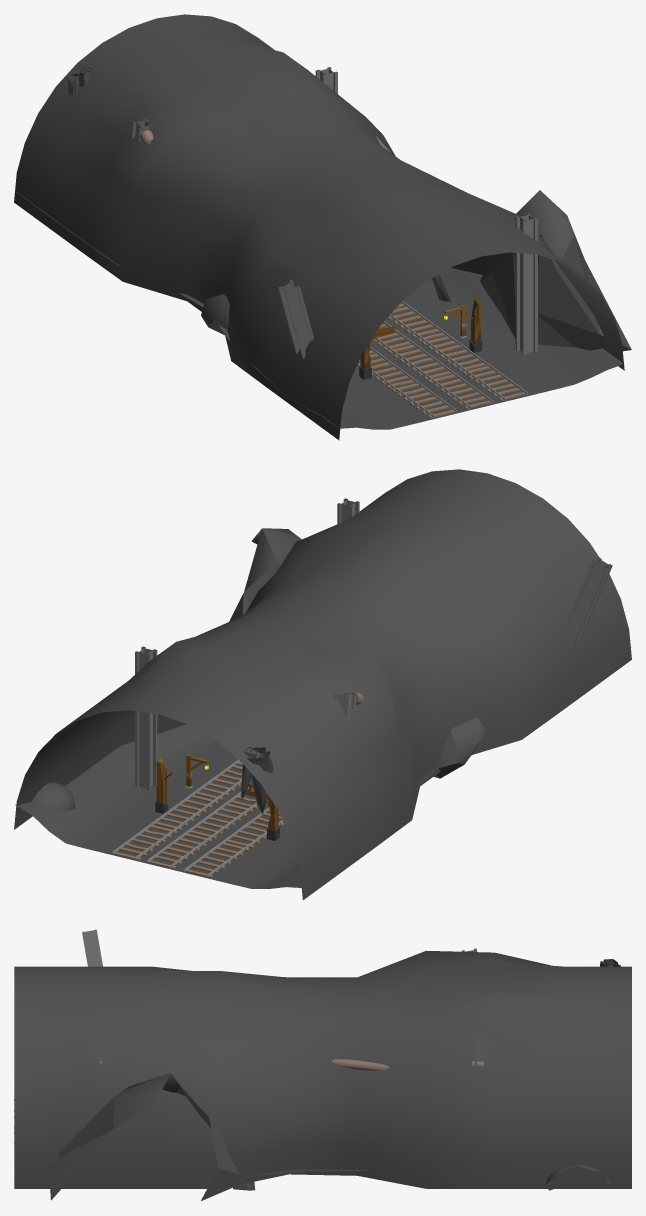
File: Modulo V1.fbx
3 views of the same model, one above another, from view 1: azimuth 30°, elevation 25°; view 2: azimuth 150°, elevation 25°; view 3: azimuth 270°, elevation 25° (orthographic). The views are drawn at different scales.
Visible parts, largest first — view 1: Cube.035; view 2: Cube.035; view 3: Cube.035.
Part boxes in pixels (x1,y1,x2,y2): Cube.035: (14, 14, 631, 440); Cube.035: (14, 469, 631, 900); Cube.035: (14, 929, 631, 1200).
Size of the model in its own units: 2794 by 1467 by 4762.
